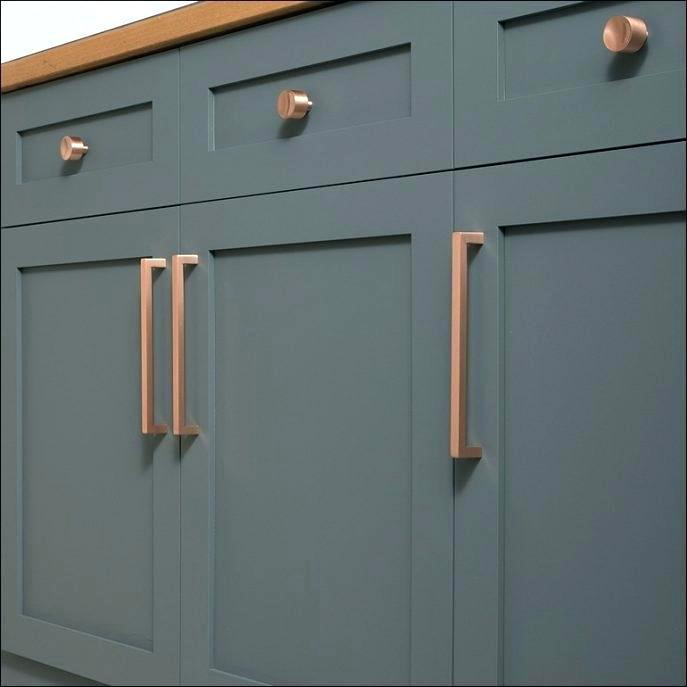cabinet_door: (180, 215, 446, 687), (455, 171, 687, 686), (2, 230, 176, 654), (186, 48, 452, 185), (457, 6, 687, 156), (0, 87, 185, 205)
handle: (450, 220, 488, 462), (168, 252, 204, 448), (137, 252, 165, 440), (602, 12, 649, 57), (274, 81, 316, 126), (55, 133, 86, 167)
